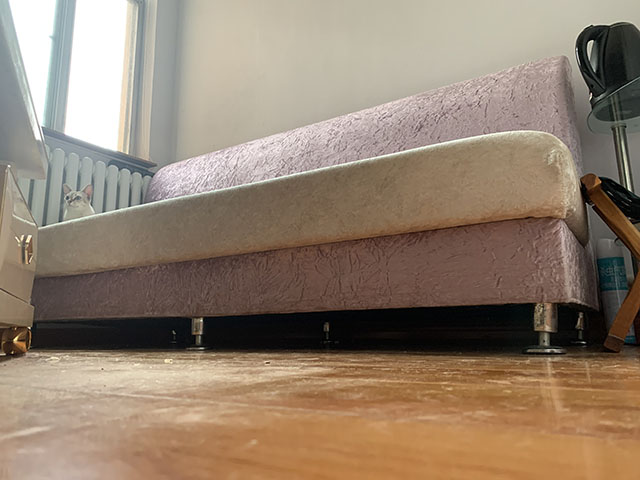sofa: (29, 53, 602, 355)
stool: (579, 173, 640, 355)
